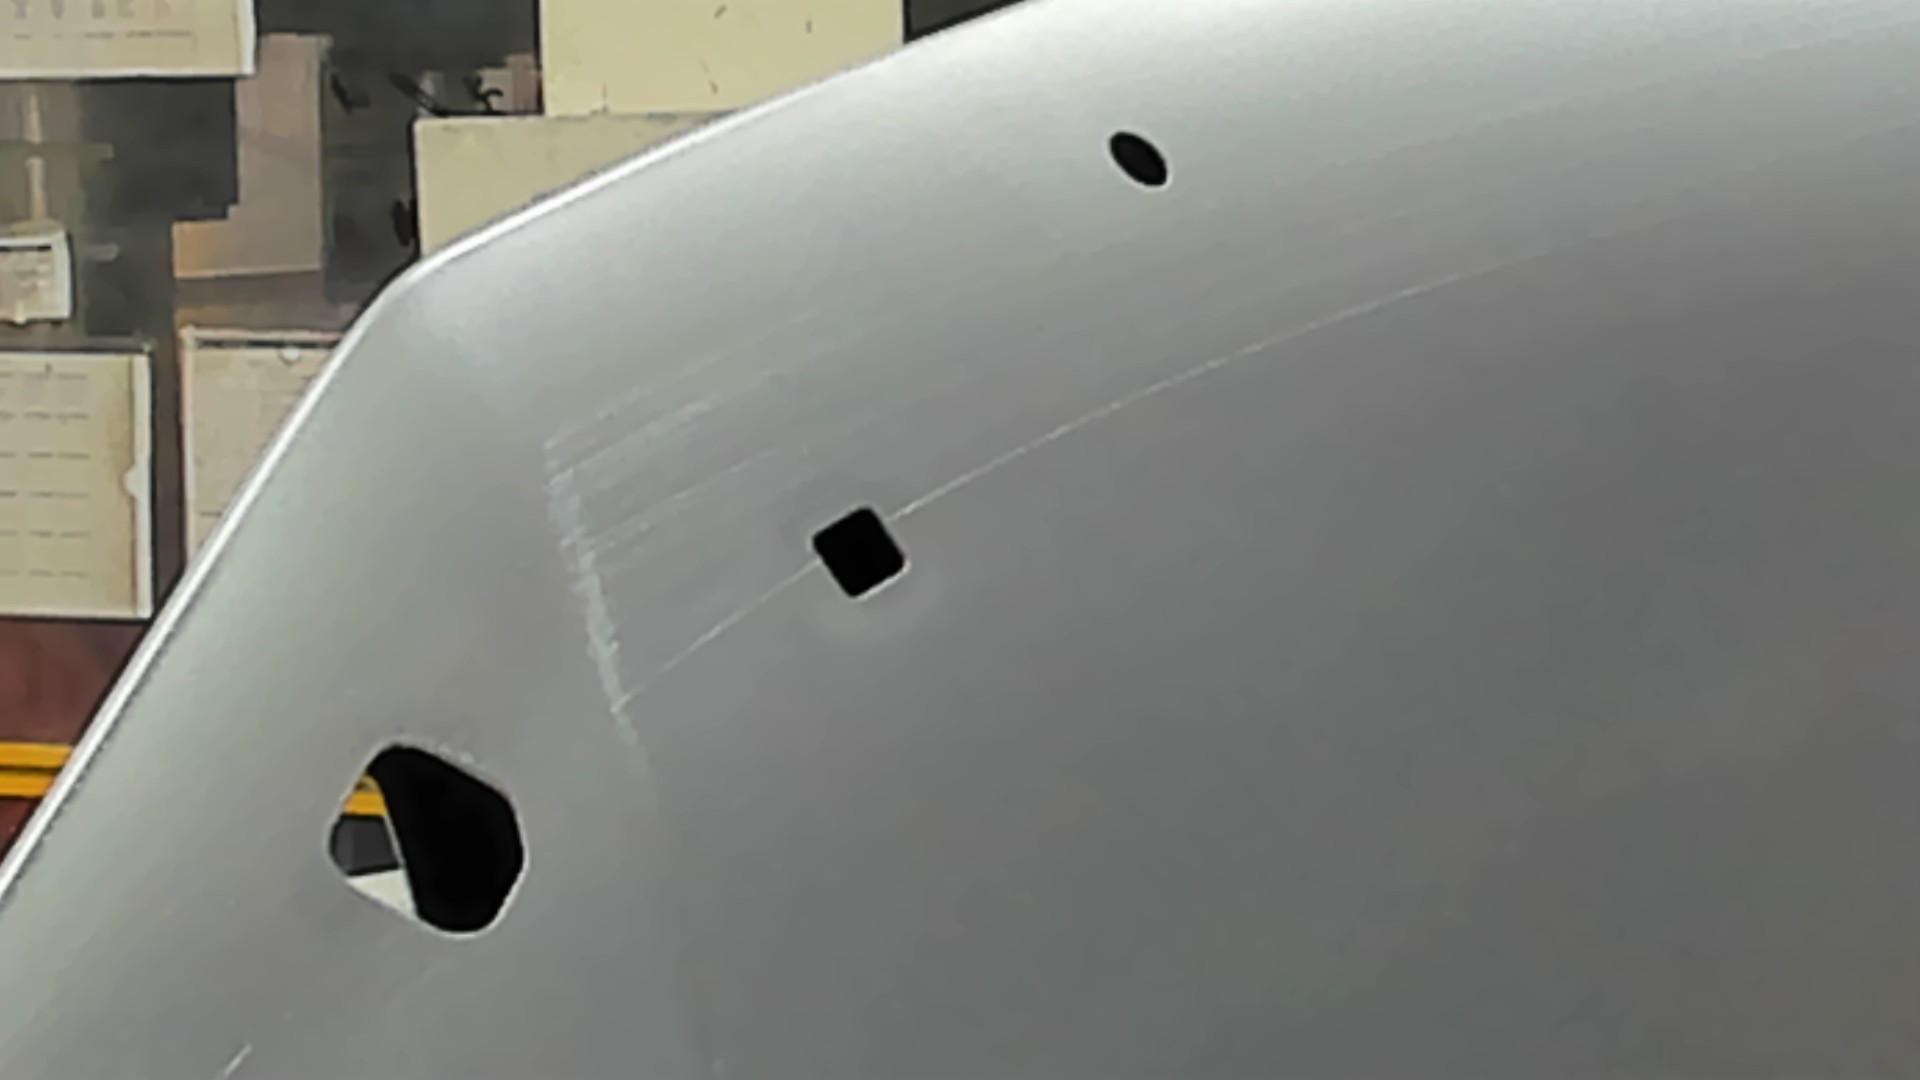chico: (1104, 124, 1178, 193)
grande: (319, 738, 535, 944)
mediano: (808, 500, 909, 600)
